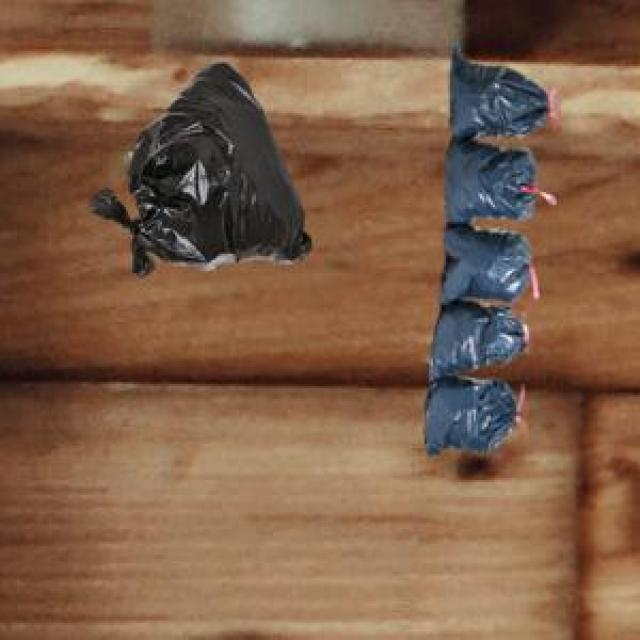waste: (425, 50, 555, 454), (91, 62, 311, 274)
